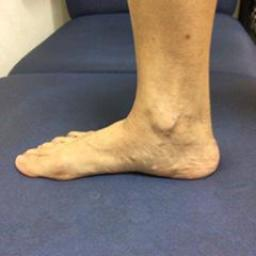Medial View -Right Foot-: (8, 70, 230, 196)
